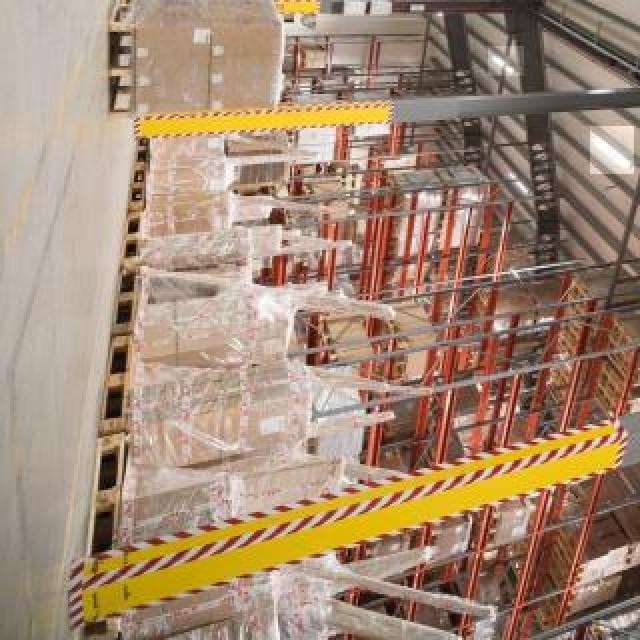fluorescent tube: (582, 124, 640, 175), (493, 45, 527, 82)
